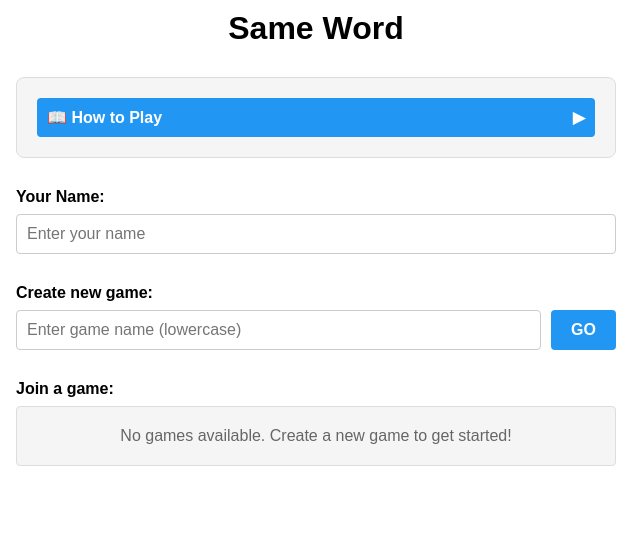
it: Home Page › Create Game › validates that game name is required
This screenshot has width=634, height=541.
In the field with placeholder "Enter your name": {"x": 316, "y": 234} [16,214,616,254], type "Test Player"
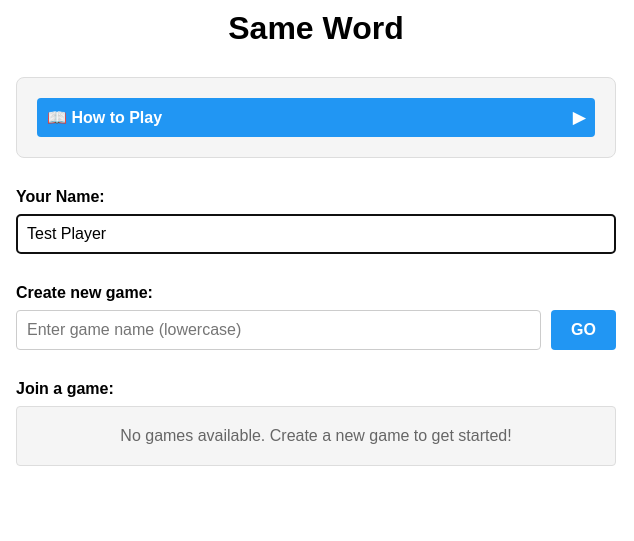
Click the button "GO": {"x": 584, "y": 330} [551,310,616,350]
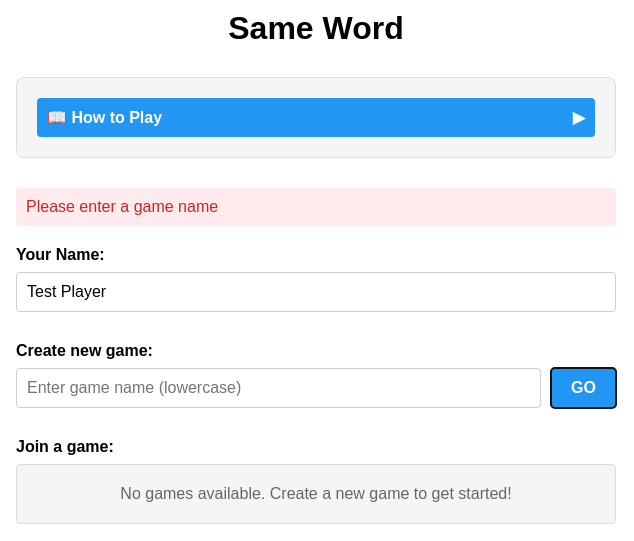
Now the text "Please enter a game name" is shown, box [16,188,616,226]
